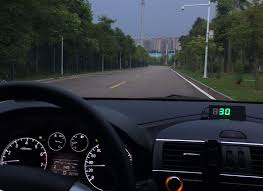Digital_Meter: (53, 161, 80, 177)
